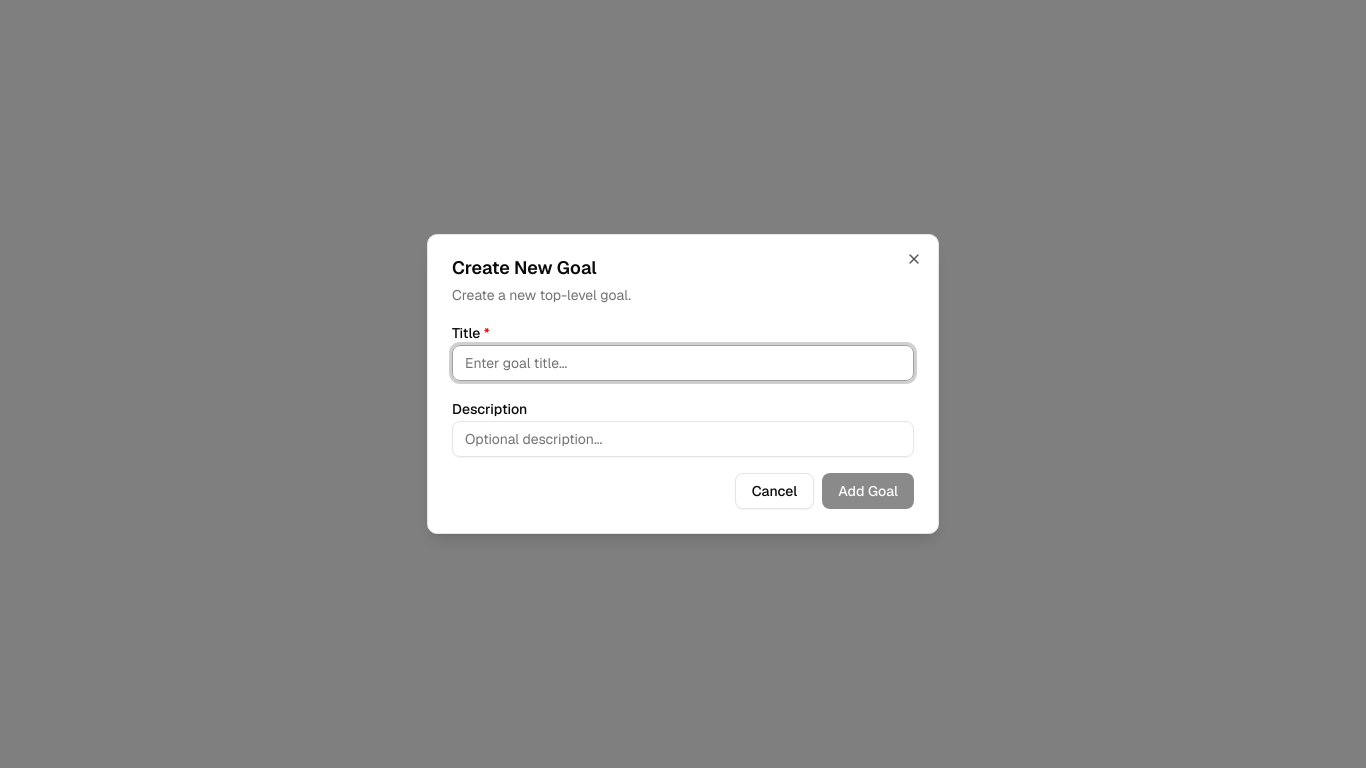
Test: AddChildDialog › root goal mode (parentNode = null) › shows error message on root goal submission failure
In the field with test id "title-input": point(683, 363) x1=452 y1=345 x2=914 y2=381, type "My Root Goal"
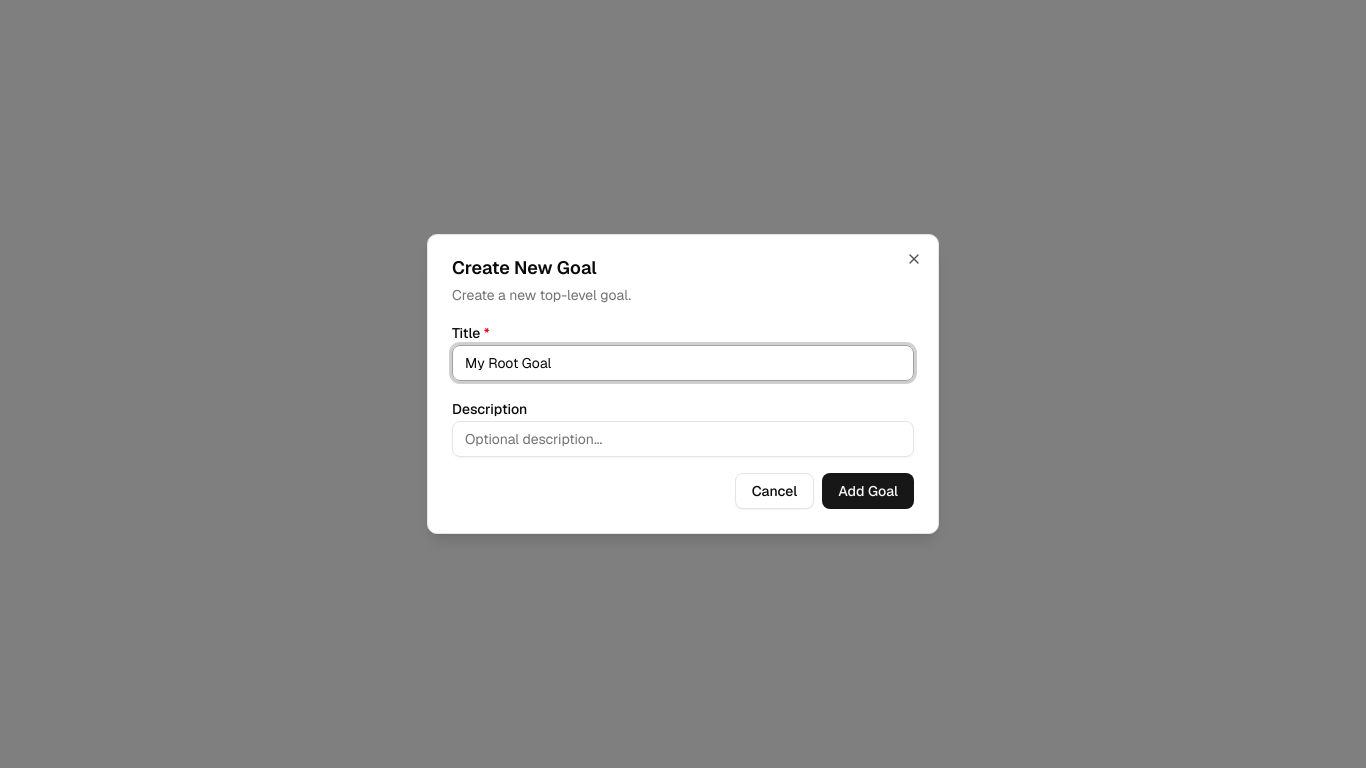
Click the button with test id "submit-button": point(868, 491) x1=822 y1=473 x2=914 y2=509
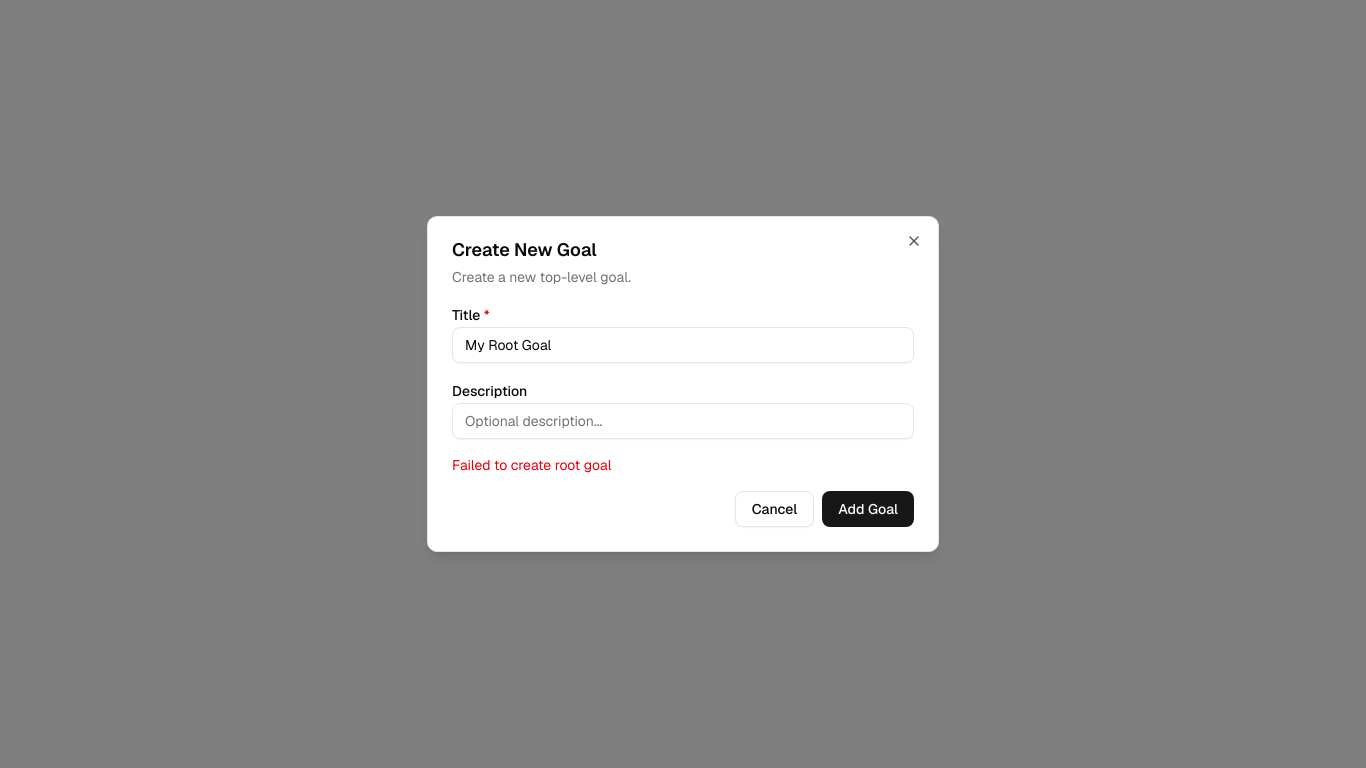
Expected: the message with test id "add-child-error" reads "Failed to create root goal", x1=452 y1=456 x2=611 y2=474
